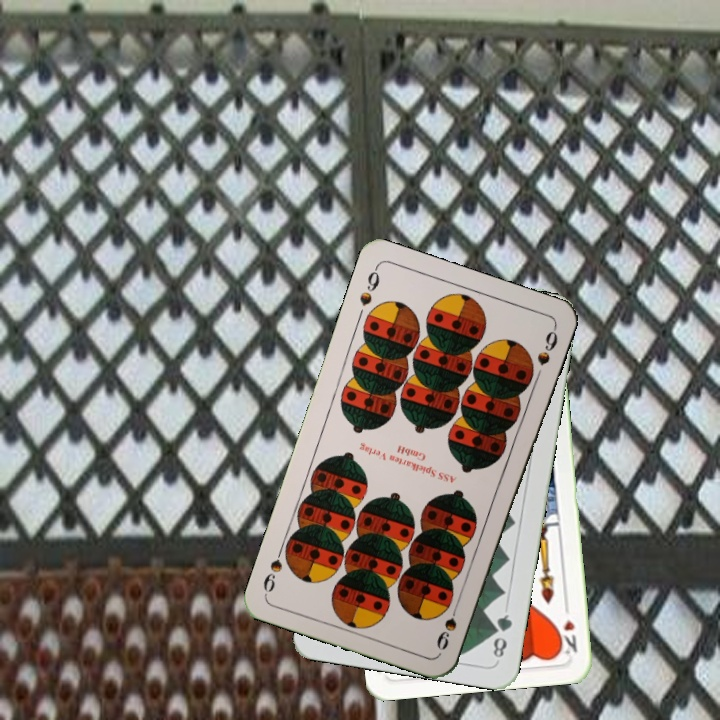G8: (489, 610, 515, 661)
HK: (554, 598, 580, 657)
S9: (432, 596, 462, 652), (355, 263, 382, 309)
